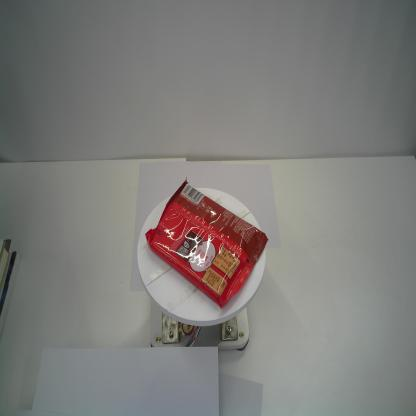Dessert: (145, 178, 268, 310)
